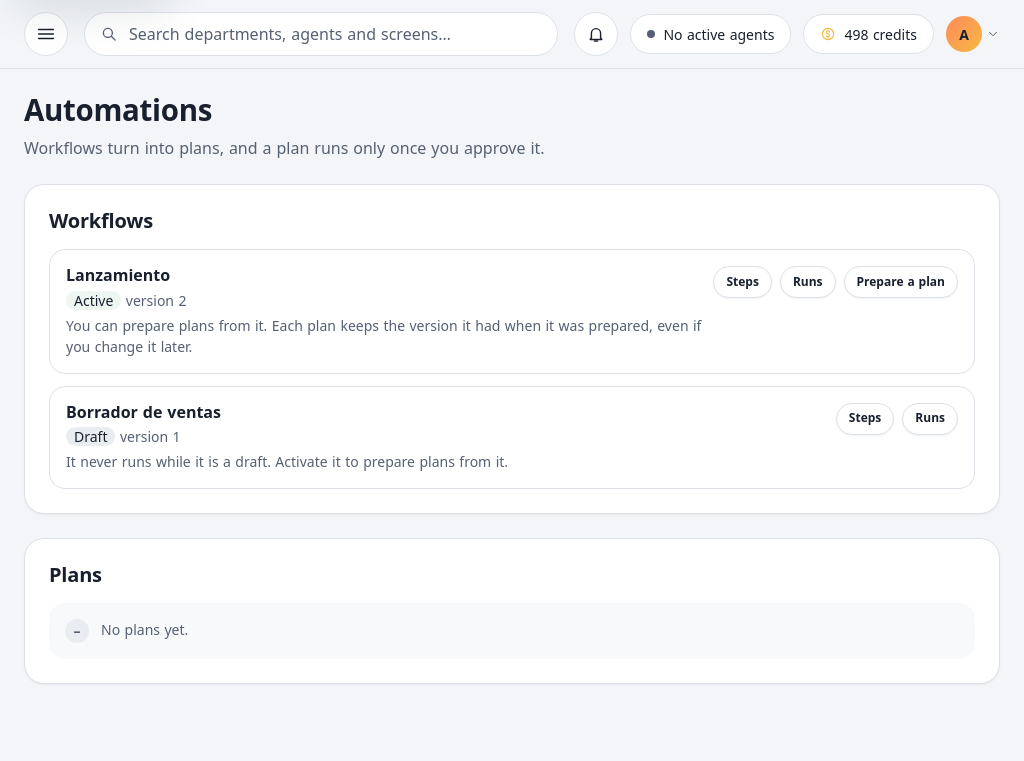
it: Automations (WF-3) › ADR-0167: a tool the agent does not have is refused in words, with the step and what to do
Click the button "Prepare a plan" at (901, 282), box 844,266 -> 958,298
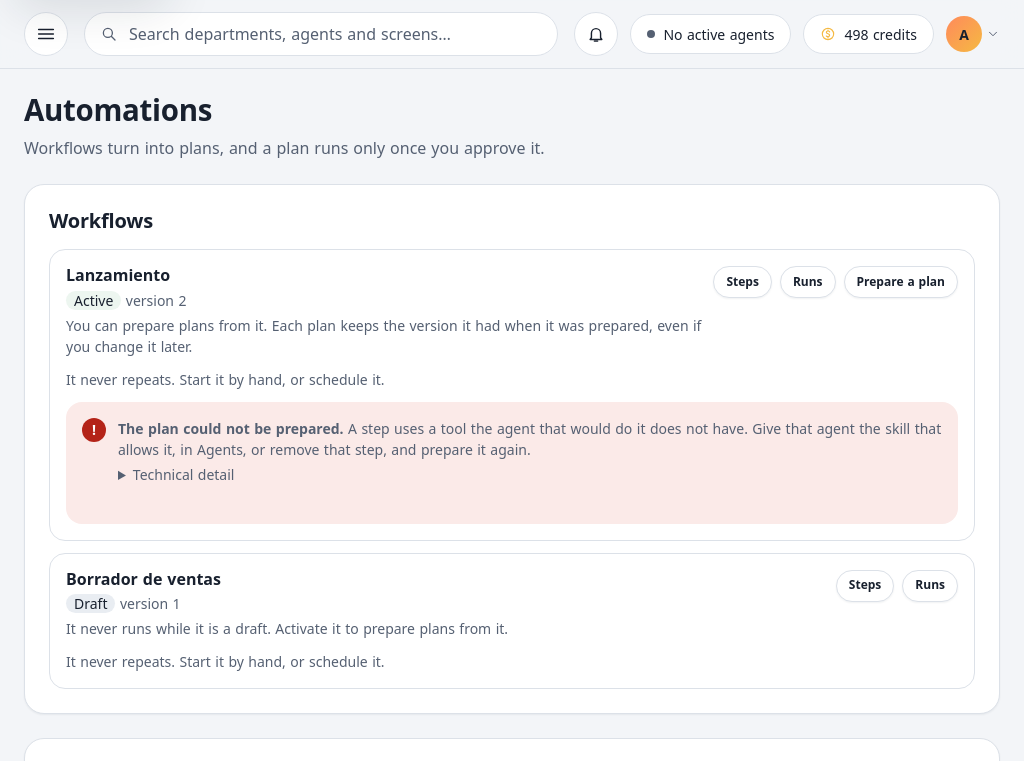
Check: the text "A step uses a tool the agent that would do it does not have." shows "Give that agent the skill that allows it, in Agents", box 118,418 -> 941,458
